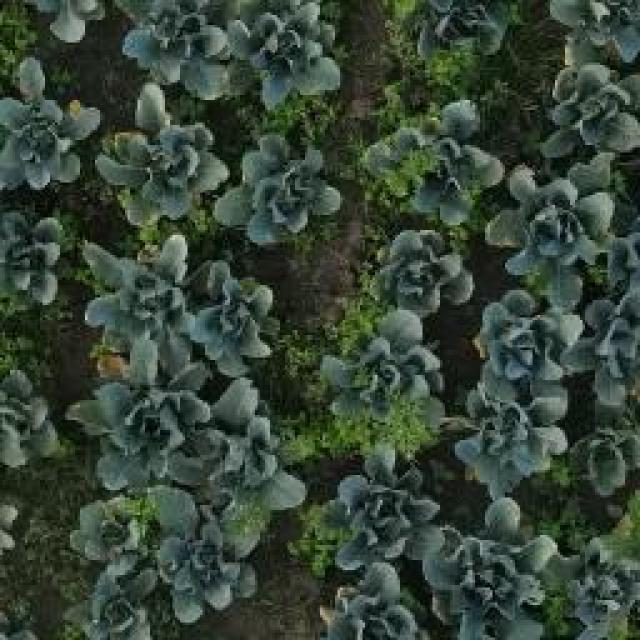cabbage: (70, 344, 198, 464), (439, 505, 558, 629), (197, 391, 317, 508), (215, 137, 327, 255), (468, 280, 578, 398), (154, 505, 269, 614), (458, 379, 564, 496), (498, 160, 616, 262), (101, 107, 211, 216), (336, 313, 434, 428), (230, 2, 336, 101), (332, 456, 438, 554), (0, 71, 91, 185), (383, 106, 489, 203), (188, 264, 280, 368), (127, 0, 230, 91), (95, 245, 195, 336), (541, 66, 640, 157), (318, 562, 426, 640), (371, 220, 467, 305), (0, 210, 74, 302), (390, 0, 488, 68), (567, 535, 640, 622), (66, 484, 146, 558), (542, 0, 640, 55), (85, 567, 148, 635)
